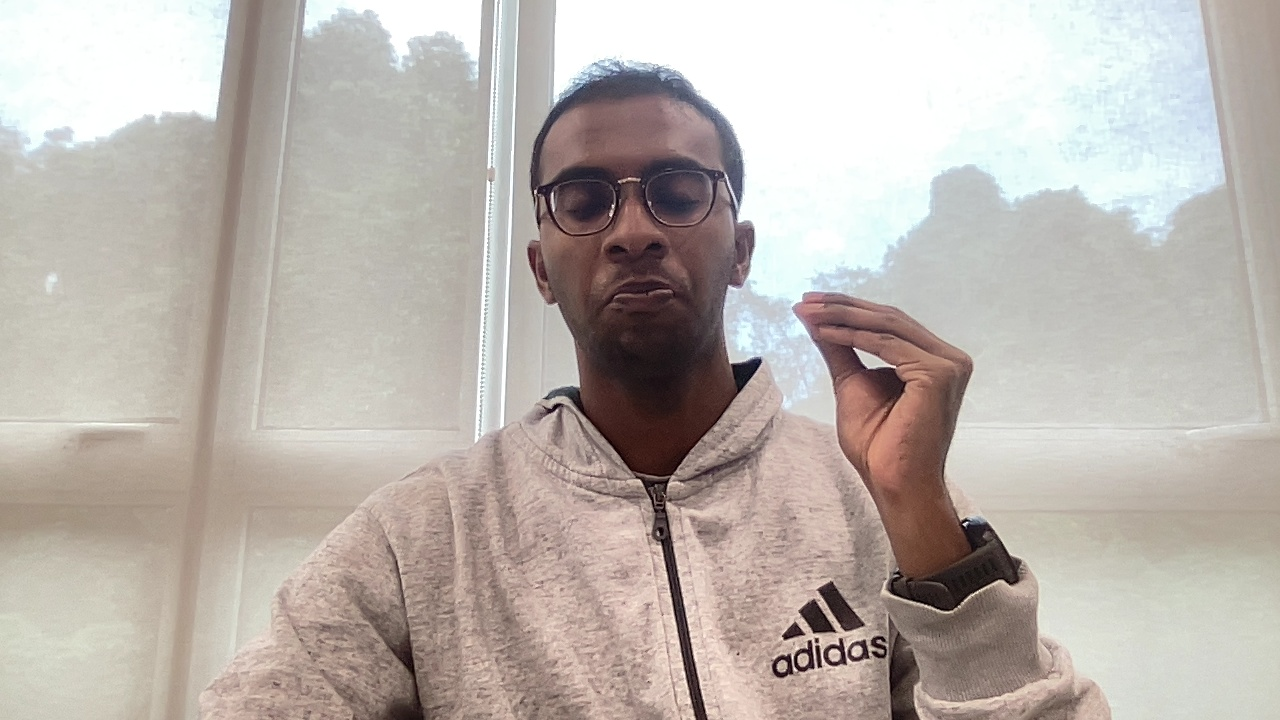eat: (786, 286, 984, 510)
